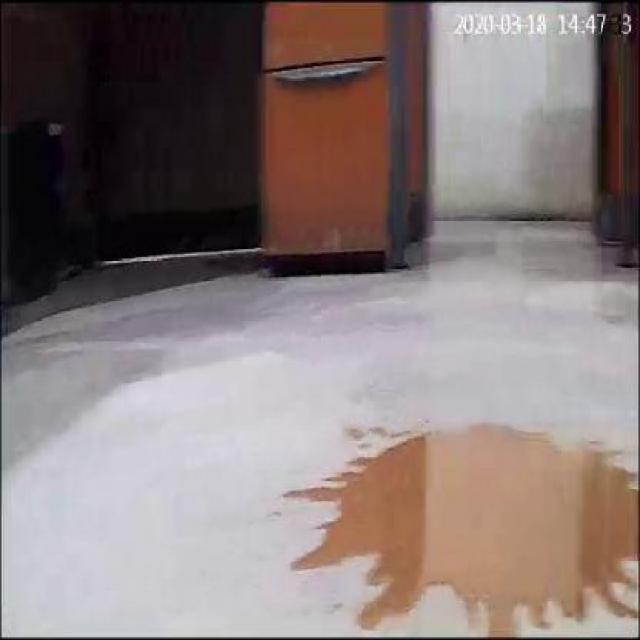spill: (279, 418, 632, 636)
